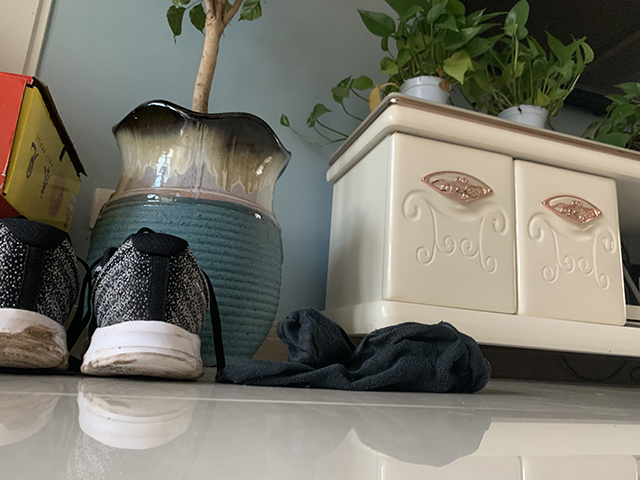cabinet: (313, 91, 640, 358)
socks: (213, 305, 494, 396)
